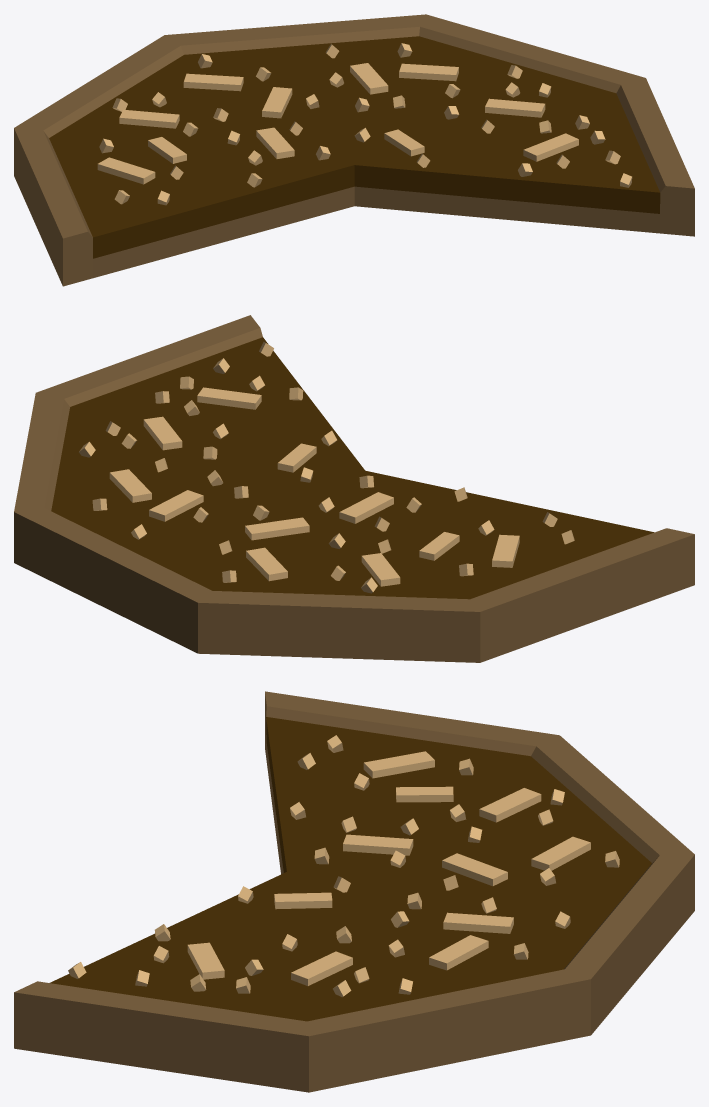
Rendered from C_Pie.fbx.
The picture shows the model from 3 angles, top to bottom: view 1: azimuth 30°, elevation 25°; view 2: azimuth 150°, elevation 25°; view 3: azimuth 270°, elevation 25°; orthographic projection. The views are drawn at different scales.
Parts seen in each view (by area): view 1: C_Pie; view 2: C_Pie; view 3: C_Pie.
Boxes of the visible parts, x1,y1,x2,y2 form: C_Pie: [14, 14, 694, 286]; C_Pie: [14, 315, 694, 662]; C_Pie: [14, 691, 694, 1092].
Bounding box in the file's own units: 214 × 179 × 18.19.
